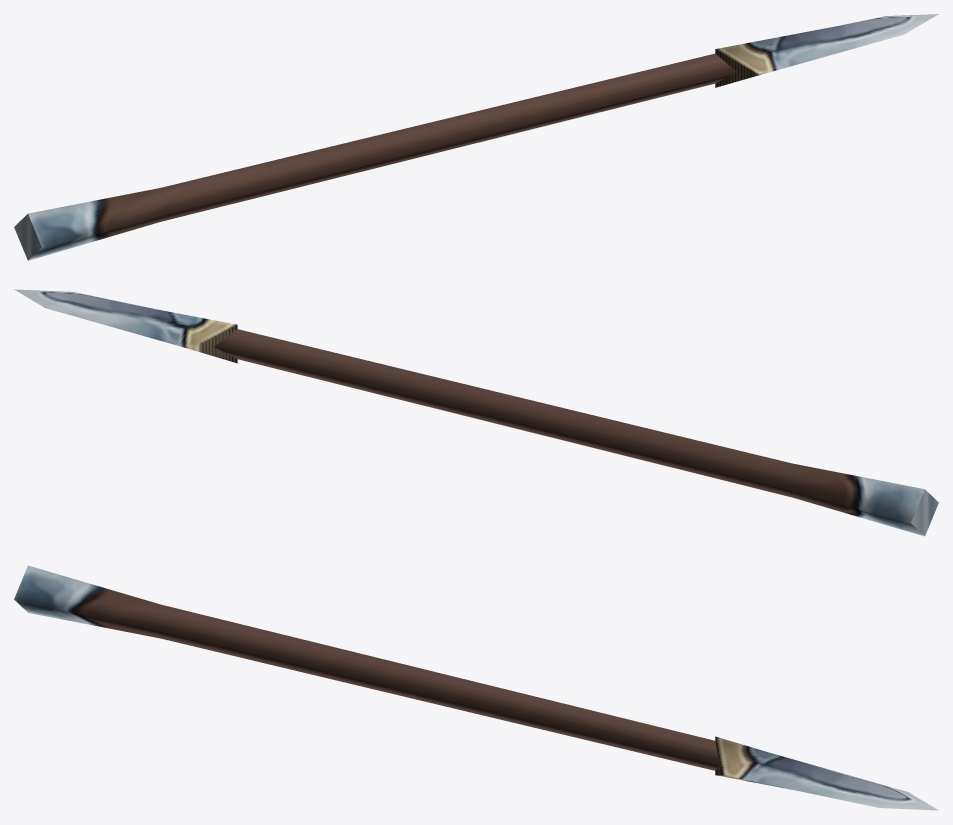
File: ELF_Spear.FBX
The picture shows the model from 3 angles, top to bottom: view 1: azimuth 30°, elevation 25°; view 2: azimuth 150°, elevation 25°; view 3: azimuth 330°, elevation 25°; orthographic projection.
Visible parts, largest first — view 1: ELF_Spear; view 2: ELF_Spear; view 3: ELF_Spear.
Part boxes in pixels (bbox=[...]): ELF_Spear: bbox=[14, 14, 938, 260]; ELF_Spear: bbox=[14, 289, 938, 536]; ELF_Spear: bbox=[14, 565, 938, 810].
Size of the model in its own units: 88.72 by 4.4 by 5.92.
